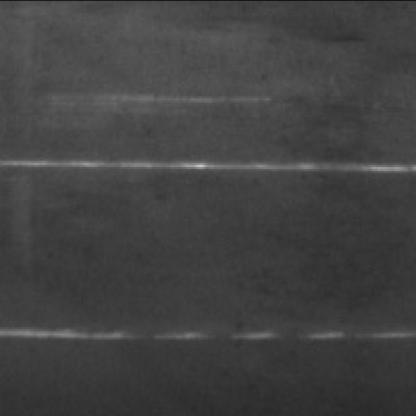scratches: (0, 154, 410, 183), (0, 325, 410, 350)
